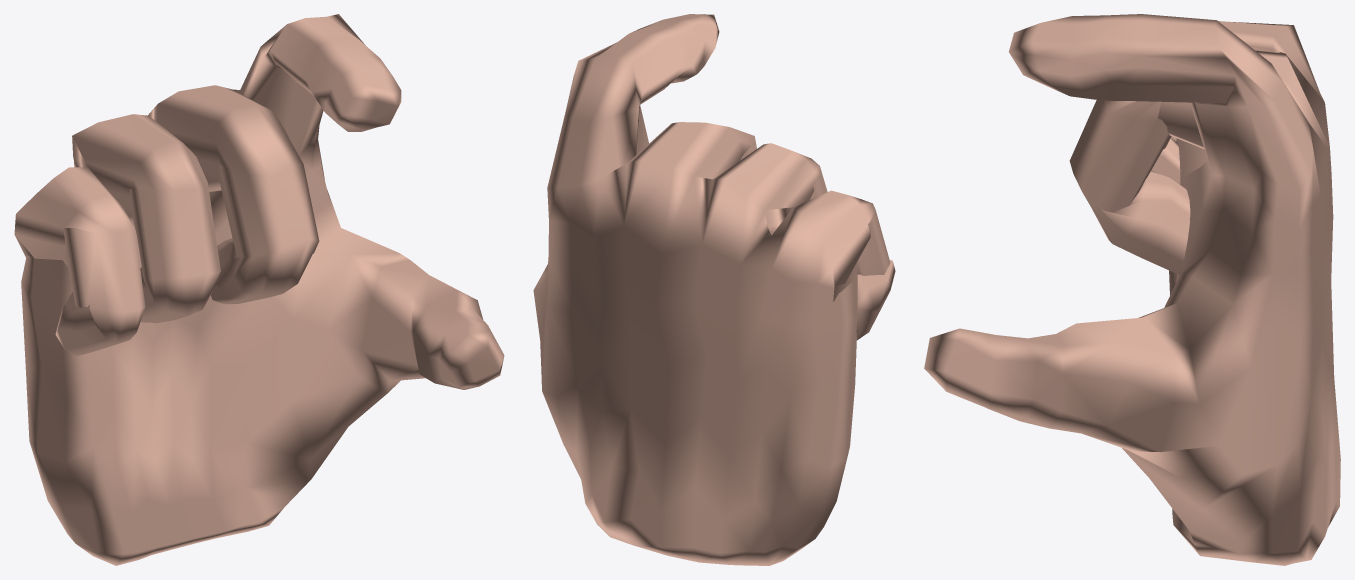
Rendered from MAO_L_COM_C.obj.
3 renders of one model, left to right at view 1: azimuth 30°, elevation 25°; view 2: azimuth 150°, elevation 25°; view 3: azimuth 270°, elevation 25°, orthographic. The views are drawn at different scales.
Parts seen in each view (by area): view 1: mao_dir:mao_dir; view 2: mao_dir:mao_dir; view 3: mao_dir:mao_dir.
Part boxes in pixels (<box>): mao_dir:mao_dir: <box>14,14,504,565</box>; mao_dir:mao_dir: <box>533,14,895,565</box>; mao_dir:mao_dir: <box>924,14,1340,565</box>.
Size of the model in its own units: 138 by 175 by 118.
